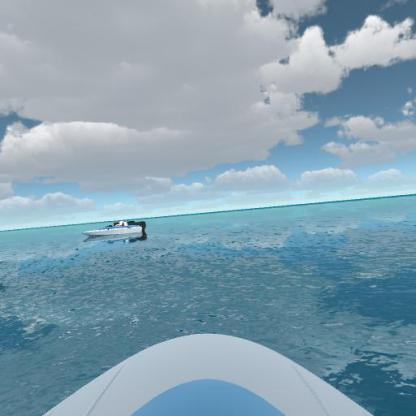usv1: (82, 220, 151, 246)
usv3: (110, 218, 134, 230)
